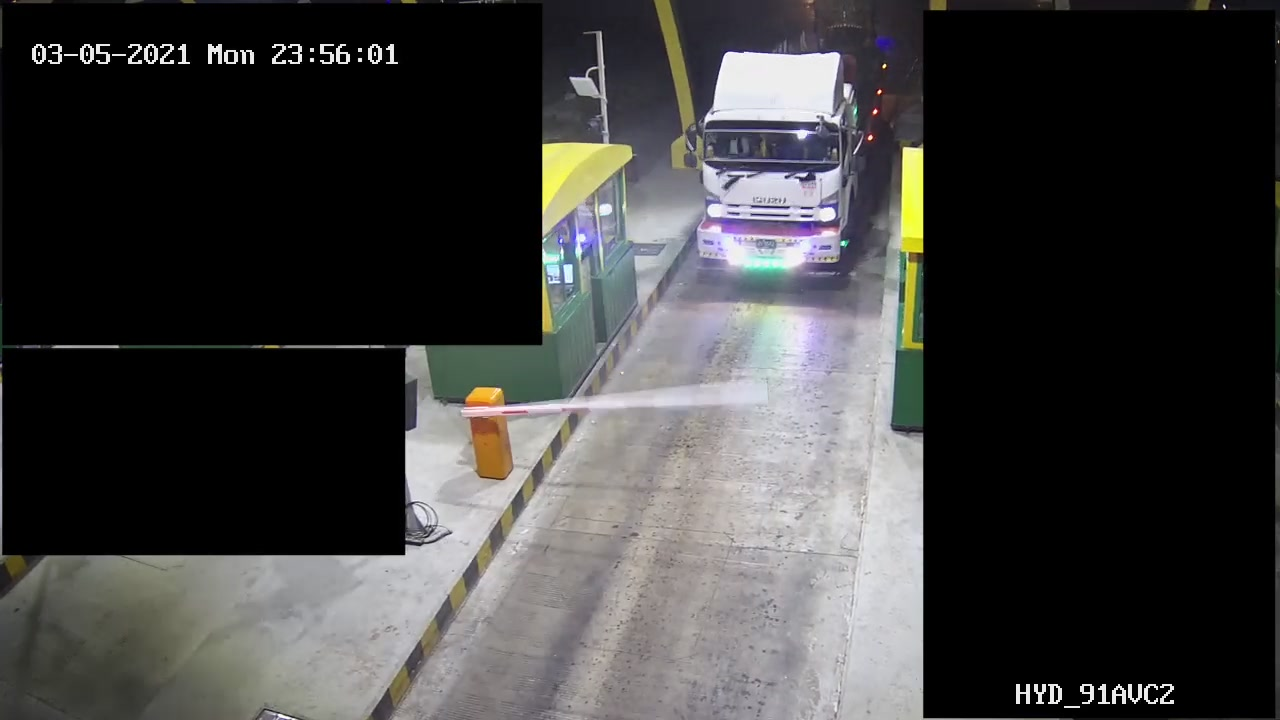F6: (687, 18, 893, 278)
